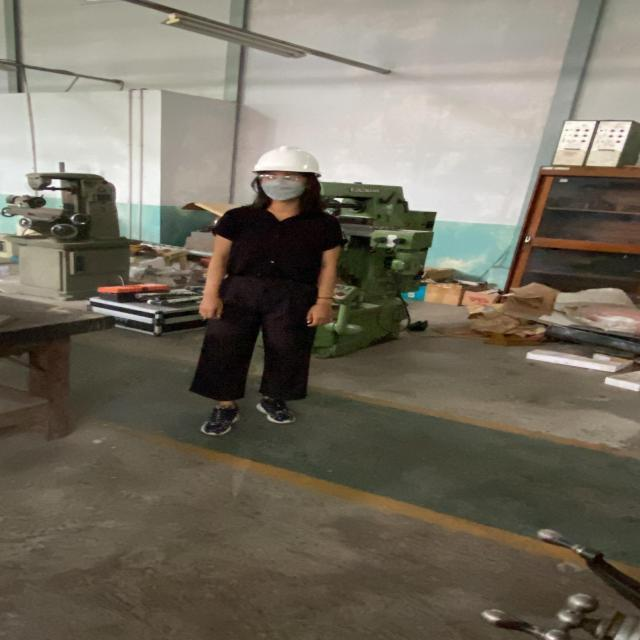glasses: (255, 173, 313, 183)
